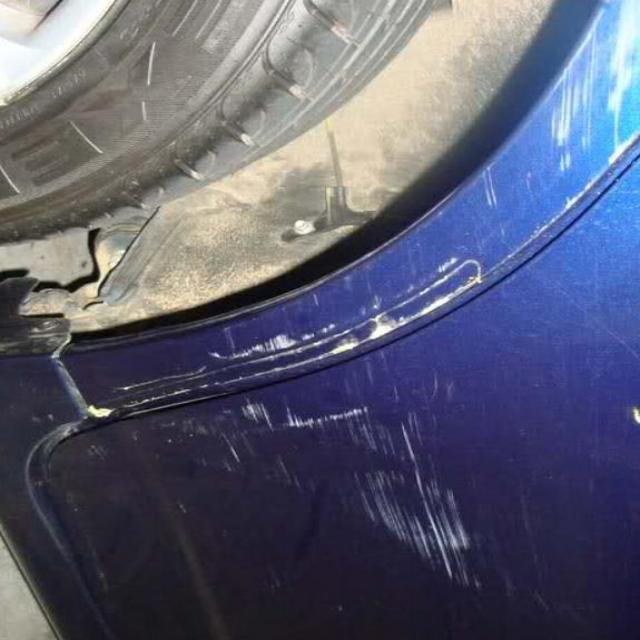scratch: (133, 366, 538, 640)
